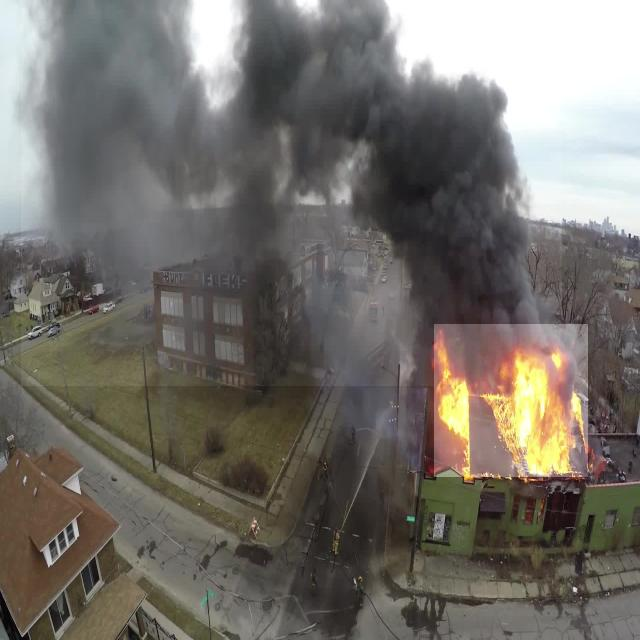Fire: (434, 324, 588, 477)
Smoke: (21, 0, 562, 386)
